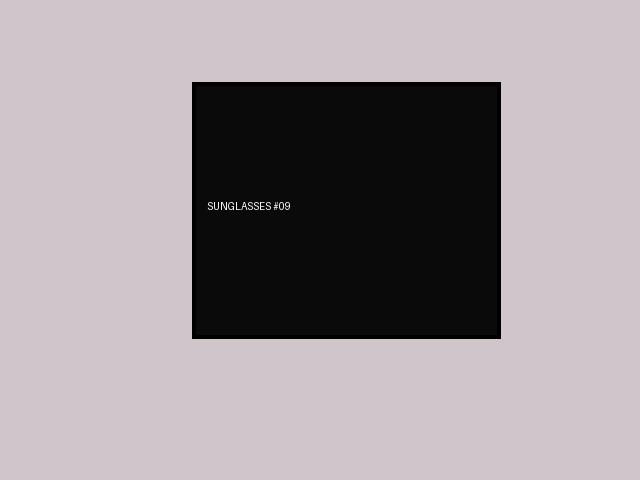sunglasses: (192, 82, 500, 338)
